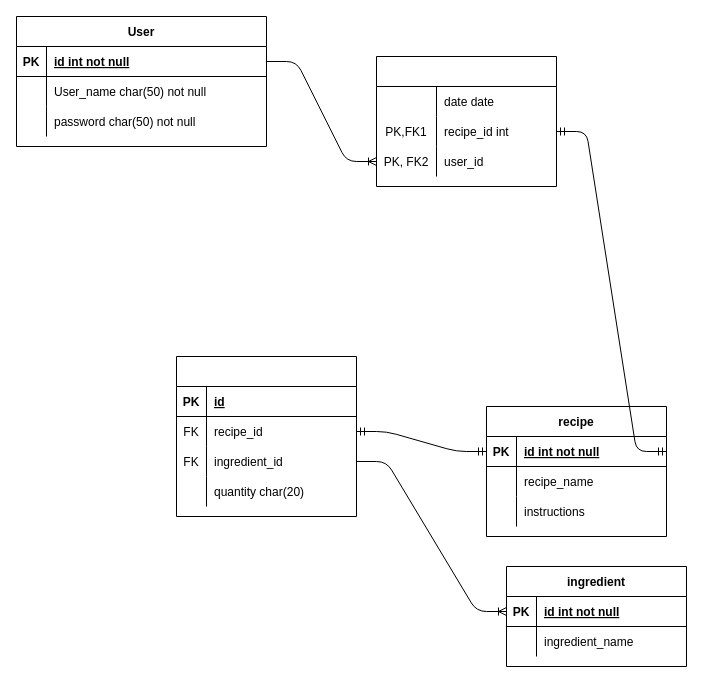
Image size: 703x683. Some labels were removed from this diagram. Each missing label, with the box of its shape:
meal_plan: (376, 56, 556, 186)
recipe_detail: (176, 356, 356, 516)
